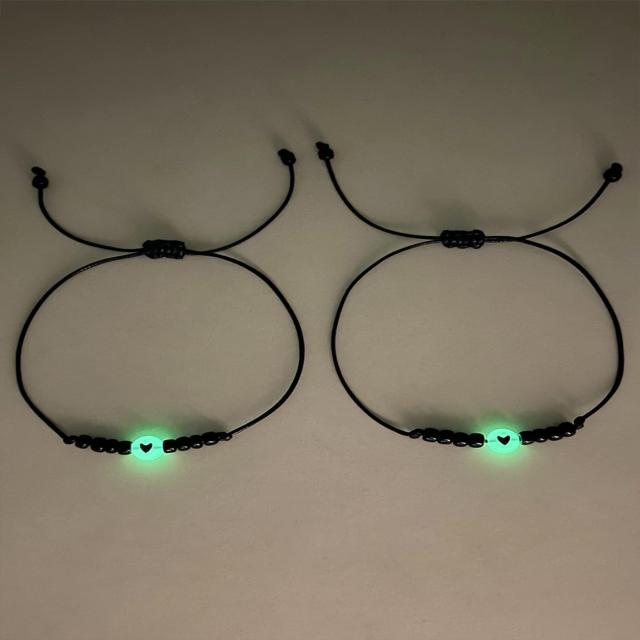bracelet: (0, 59, 331, 552)
